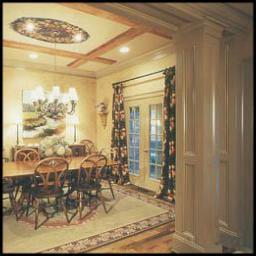Puerta: (127, 98, 163, 187)
